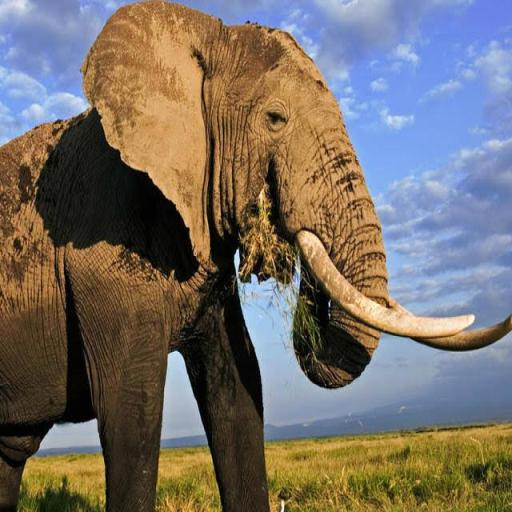Elephant: (0, 0, 510, 511)
